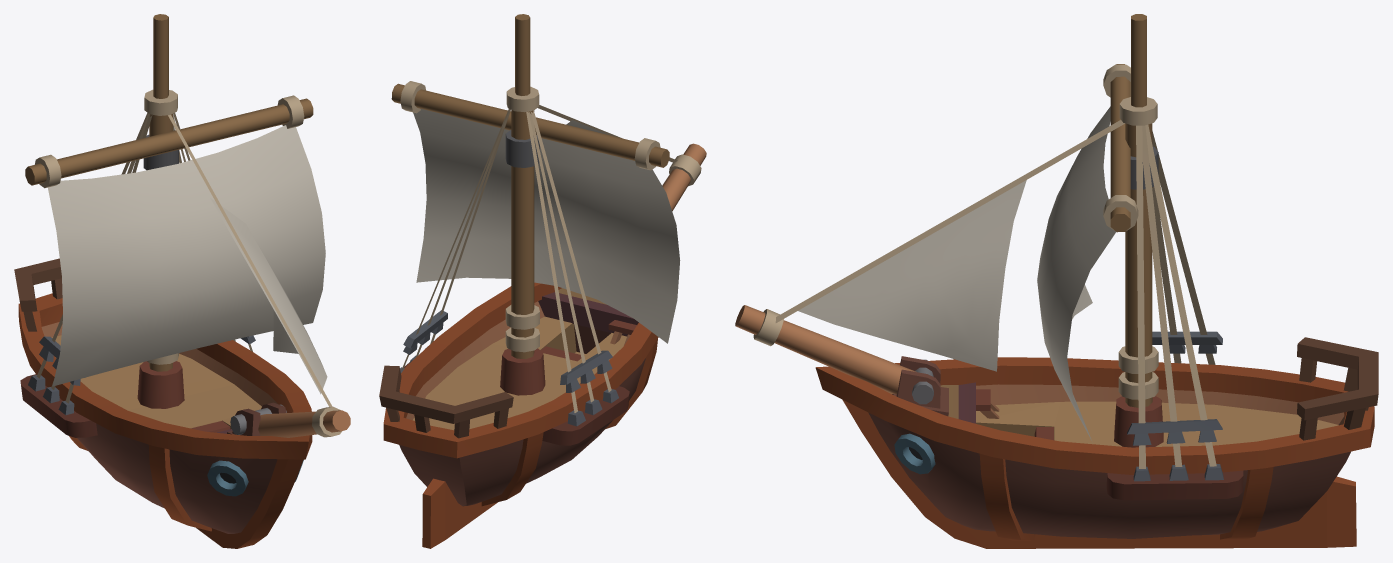
The model's file is Tartana.fbx.
3 renders of one model, left to right at view 1: azimuth 30°, elevation 25°; view 2: azimuth 150°, elevation 25°; view 3: azimuth 270°, elevation 25°, orthographic. The views are drawn at different scales.
Parts seen in each view (by area): view 1: Sails_White, Tartana, Upgrade_02, Upgrade_01; view 2: Tartana, Sails_White, Upgrade_01, Upgrade_02, Rudder; view 3: Tartana, Sails_White, Upgrade_01, Upgrade_02, Rudder.
Part boxes in pixels (x1,y1,x2,y2): Sails_White: [48, 125, 327, 394]; Tartana: [18, 14, 350, 548]; Upgrade_02: [69, 436, 211, 531]; Upgrade_01: [14, 258, 62, 331]; Tartana: [383, 14, 706, 539]; Sails_White: [413, 108, 680, 343]; Upgrade_01: [379, 365, 513, 438]; Upgrade_02: [481, 339, 657, 506]; Rudder: [422, 478, 445, 548]; Tartana: [735, 14, 1374, 548]; Sails_White: [798, 106, 1115, 440]; Upgrade_01: [1297, 337, 1378, 440]; Upgrade_02: [979, 453, 1273, 540]; Rudder: [1327, 476, 1356, 547].
Bounding box in the file's own units: 370 × 606 × 671.
